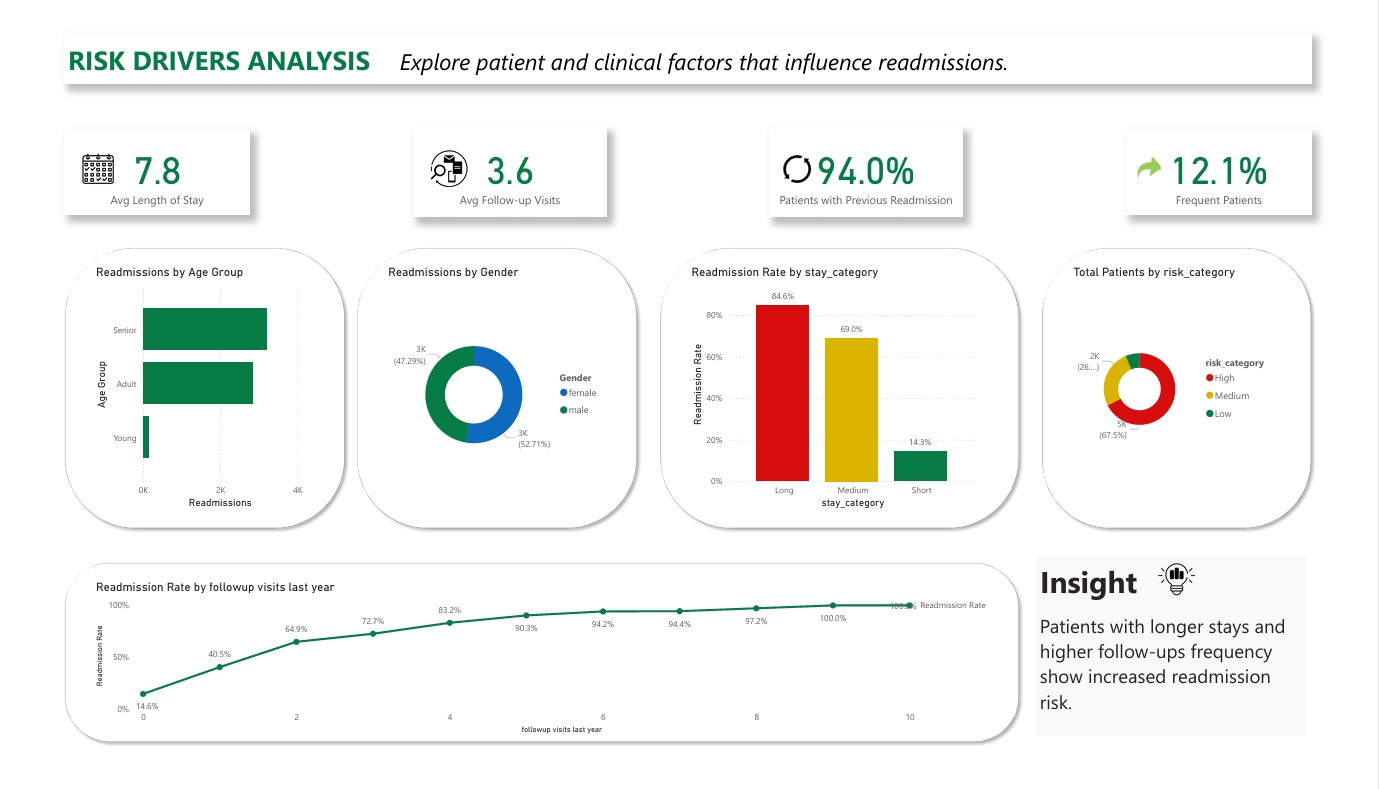

The page's visual inventory and layout, read from the dashboard file:
{"tool":"powerbi","page":{"name":"Page 2","canvas":[1920,1080],"ordinal":1},"visuals":[{"type":"shape","box":[64,768,1376,272],"z":0},{"type":"shape","box":[912,320,528,416],"z":1000},{"type":"shape","box":[1456,320,400,416],"z":2000},{"type":"shape","box":[480,320,416,416],"z":3000},{"type":"shape","box":[64,320,416,416],"z":4000},{"type":"clusteredBarChart","fields":{"Category":["Table 1 (Sheet 1).age_group"],"Y":["Table 1 (Sheet 1).Readmissions"]},"box":[112,352,304,352],"z":5000},{"type":"donutChart","fields":{"Category":["Table 1 (Sheet 1).risk_category"],"Y":["Table 1 (Sheet 1).Total Patients"]},"box":[1504,352,288,336],"z":6000},{"type":"columnChart","fields":{"Category":["Table 1 (Sheet 1).stay_category"],"Y":["Table 1 (Sheet 1).Readmission Rate"]},"box":[960,352,416,352],"z":7000},{"type":"donutChart","fields":{"Category":["Table 1 (Sheet 1).gender"],"Y":["Table 1 (Sheet 1).Readmissions"]},"box":[528,352,320,352],"z":8000},{"type":"lineChart","fields":{"Category":["Table 1 (Sheet 1).followup_visits_last_year"],"Y":["Table 1 (Sheet 1).Readmission Rate"]},"box":[112,800,1280,224],"z":9000},{"type":"textbox","box":[72,24,1776,72],"z":10000},{"type":"card","fields":{"Values":["Table 1 (Sheet 1).Avg Length of Stay"]},"box":[72,162,264,120],"z":11000},{"type":"card","fields":{"Values":["Table 1 (Sheet 1).Patients with Previous Readmission"]},"box":[1076.3,158,275,128],"z":12000},{"type":"card","fields":{"Values":["Table 1 (Sheet 1).Avg Follow-up Visits"]},"box":[568.7,158,275,128],"z":13000},{"type":"textbox","box":[1456,768,384,256],"z":14000},{"type":"card","fields":{"Values":["Table 1 (Sheet 1).Frequent Patients"]},"box":[1584,162,264,120],"z":15000},{"type":"image","box":[1600,768,112,64],"z":16000},{"type":"image","box":[1584,192,64,48],"z":21000},{"type":"image","box":[1088,176,55,80],"z":22000},{"type":"image","box":[576,184,88,64],"z":23000},{"type":"image","box":[88,184,64,64],"z":24000}]}

Visuals, with their boxes in screenshot pixels (x1, y1, x2, y2), scaled from the page's 1920x1080 canvas onto the 1379x789 screenshot:
shape: 46,561,1034,760
shape: 655,234,1034,538
shape: 1046,234,1333,538
shape: 345,234,644,538
shape: 46,234,345,538
clusteredBarChart - Table 1 (Sheet 1).age_group x Table 1 (Sheet 1).Readmissions: 80,257,299,514
donutChart - Table 1 (Sheet 1).risk_category x Table 1 (Sheet 1).Total Patients: 1080,257,1287,503
columnChart - Table 1 (Sheet 1).stay_category x Table 1 (Sheet 1).Readmission Rate: 690,257,988,514
donutChart - Table 1 (Sheet 1).gender x Table 1 (Sheet 1).Readmissions: 379,257,609,514
lineChart - Table 1 (Sheet 1).followup_visits_last_year x Table 1 (Sheet 1).Readmission Rate: 80,584,1000,748
textbox: 52,18,1327,70
card - Table 1 (Sheet 1).Avg Length of Stay: 52,118,241,206
card - Table 1 (Sheet 1).Patients with Previous Readmission: 773,115,971,209
card - Table 1 (Sheet 1).Avg Follow-up Visits: 408,115,606,209
textbox: 1046,561,1322,748
card - Table 1 (Sheet 1).Frequent Patients: 1138,118,1327,206
image: 1149,561,1230,608
image: 1138,140,1184,175
image: 781,129,821,187
image: 414,134,477,181
image: 63,134,109,181
